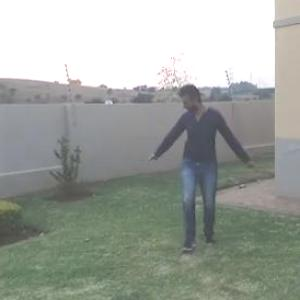land: (127, 77, 268, 266)
